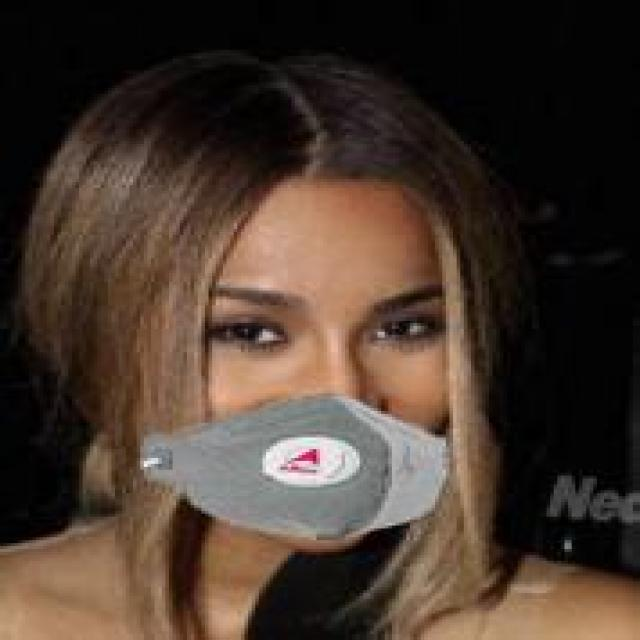mask: (82, 50, 554, 593)
